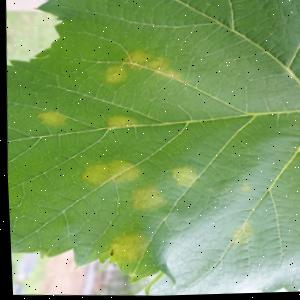Folha: (0, 0, 300, 300)
Fungo: (101, 47, 182, 87), (78, 158, 142, 187), (104, 230, 147, 266), (127, 184, 165, 211), (121, 49, 153, 72), (166, 166, 197, 189), (32, 111, 67, 128), (101, 64, 128, 85), (104, 114, 136, 130)
